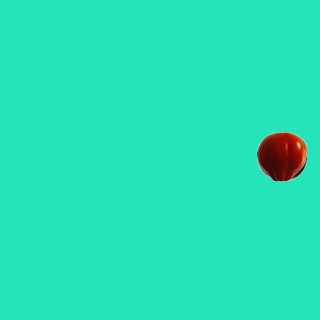Apple Braeburn: (256, 131, 306, 181)
Tomato 1: (256, 131, 306, 181)
